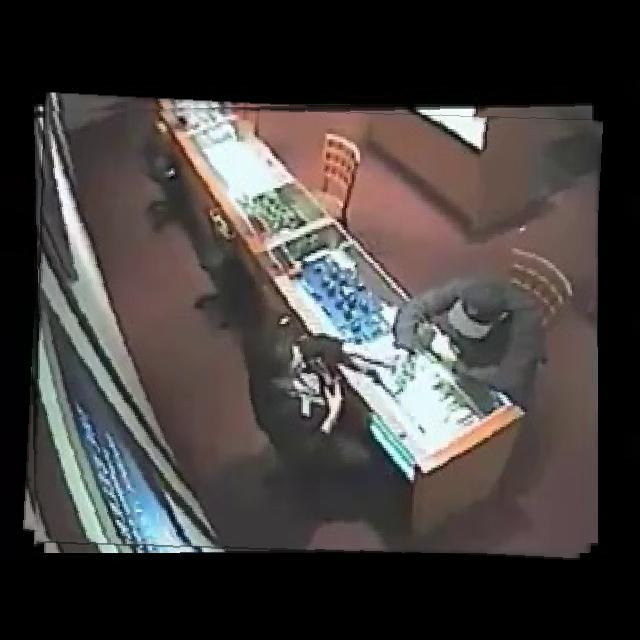Normal: (26, 100, 598, 554)
